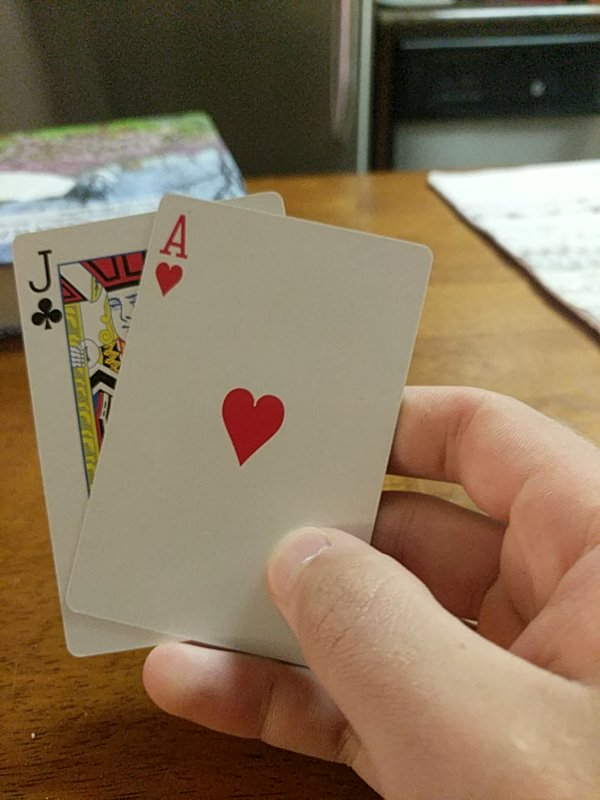Clubs: (9, 213, 147, 658)
Hearts: (68, 194, 437, 667)
